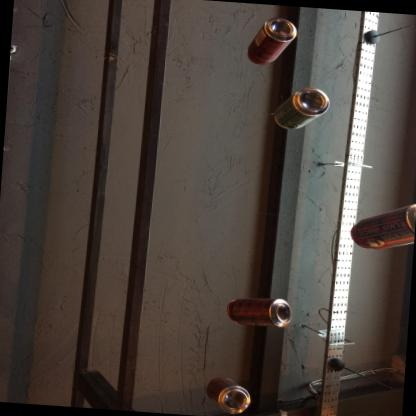Metal: (351, 203, 416, 249), (247, 17, 297, 64), (275, 87, 330, 128), (228, 297, 292, 326), (207, 376, 250, 413)
